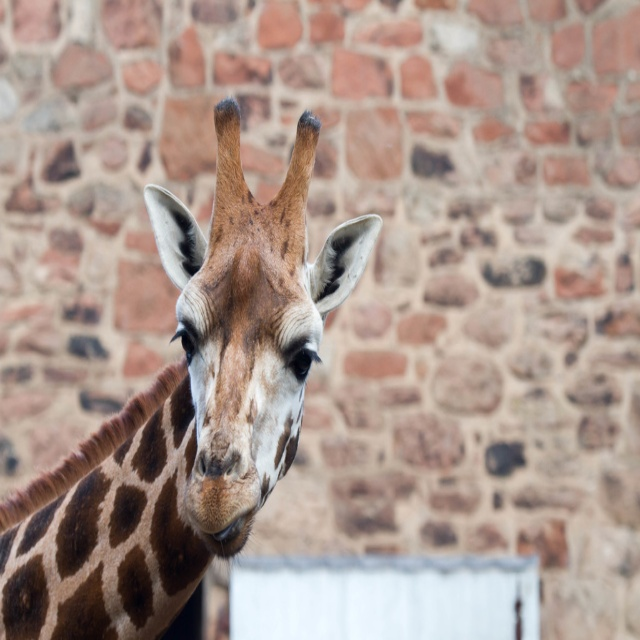Giraffe: (0, 94, 382, 639)
